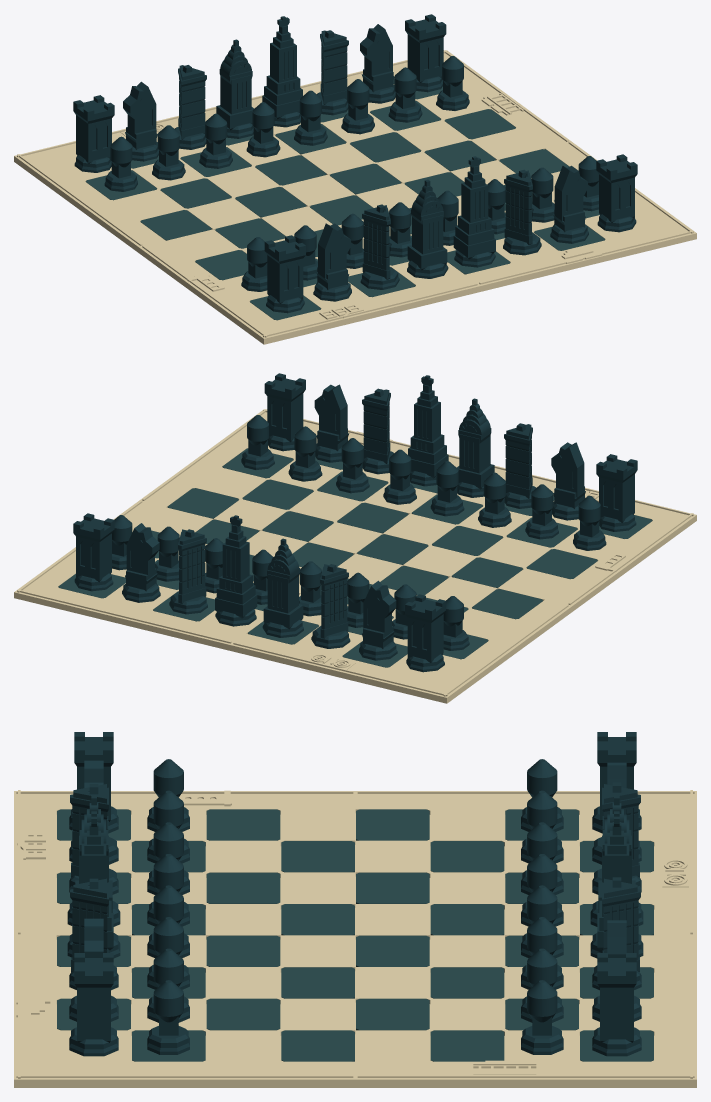
Rendered from city.glb.
3 views of the same model, one above another, from view 1: azimuth 30°, elevation 25°; view 2: azimuth 150°, elevation 25°; view 3: azimuth 270°, elevation 25° (orthographic). The views are drawn at different scales.
Visible parts, largest first — view 1: board_0_0, board_0_1, board_1_1, board_1_0, ivory_king_e1, ivory_queen_d1, midnight_king_e8, ivory_rook_a1, midnight_queen_d8, ivory_rook_h1, midnight_rook_a8, midnight_rook_h8 (+45 smaller); view 2: board_0_1, board_0_0, board_1_0, board_1_1, midnight_king_e8, midnight_queen_d8, ivory_king_e1, midnight_rook_a8, ivory_queen_d1, midnight_rook_h8, ivory_rook_a1, ivory_rook_h1 (+44 smaller); view 3: board_1_0, board_1_1, board_0_1, board_0_0, ivory_rook_h1, midnight_rook_h8, tile_g3, tile_g5, tile_d6, tile_a3, tile_b6, tile_c3 (+56 smaller).
Part boxes in pixels (<box>): board_0_0: <box>139,206,480,344</box>; board_0_1: <box>14,106,355,252</box>; board_1_1: <box>251,50,571,183</box>; board_1_0: <box>355,141,696,291</box>; ivory_king_e1: <box>453,156,495,267</box>; ivory_queen_d1: <box>407,179,448,278</box>; midnight_king_e8: <box>262,16,302,127</box>; ivory_rook_a1: <box>264,235,305,313</box>; midnight_queen_d8: <box>216,39,254,138</box>; ivory_rook_h1: <box>596,154,637,232</box>; midnight_rook_a8: <box>73,95,114,172</box>; midnight_rook_h8: <box>405,14,446,92</box>; board_0_1: <box>230,553,571,703</box>; board_0_0: <box>383,465,696,611</box>; board_1_0: <box>139,409,459,554</box>; board_1_1: <box>14,500,307,650</box>; midnight_king_e8: <box>215,515,257,626</box>; midnight_queen_d8: <box>262,538,303,637</box>; ivory_king_e1: <box>408,375,448,486</box>; midnight_rook_a8: <box>405,594,446,672</box>; ivory_queen_d1: <box>456,398,494,497</box>; midnight_rook_h8: <box>73,513,114,591</box>; ivory_rook_a1: <box>596,454,637,531</box>; ivory_rook_h1: <box>264,373,305,451</box>; board_1_0: <box>14,934,355,1087</box>; board_1_1: <box>355,934,696,1087</box>; board_0_1: <box>355,790,696,939</box>; board_0_0: <box>14,790,355,939</box>; ivory_rook_h1: <box>69,953,118,1056</box>; midnight_rook_h8: <box>592,953,641,1056</box>; tile_g3: <box>206,998,280,1030</box>; tile_g5: <box>356,998,429,1030</box>; tile_d6: <box>430,904,504,935</box>; tile_a3: <box>206,809,280,840</box>; tile_b6: <box>430,841,504,872</box>; tile_c3: <box>206,872,280,903</box>.
Size of the model in its own units: 0.384 by 0.091 by 0.384.
